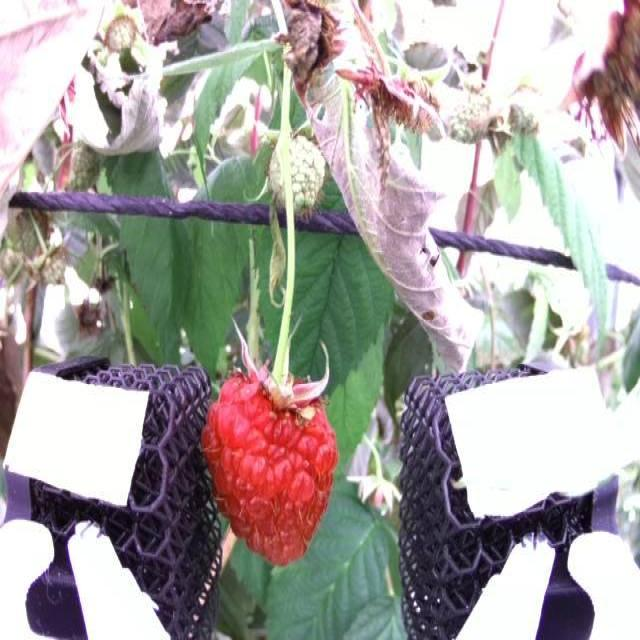Riped berries: (199, 362, 340, 566)
